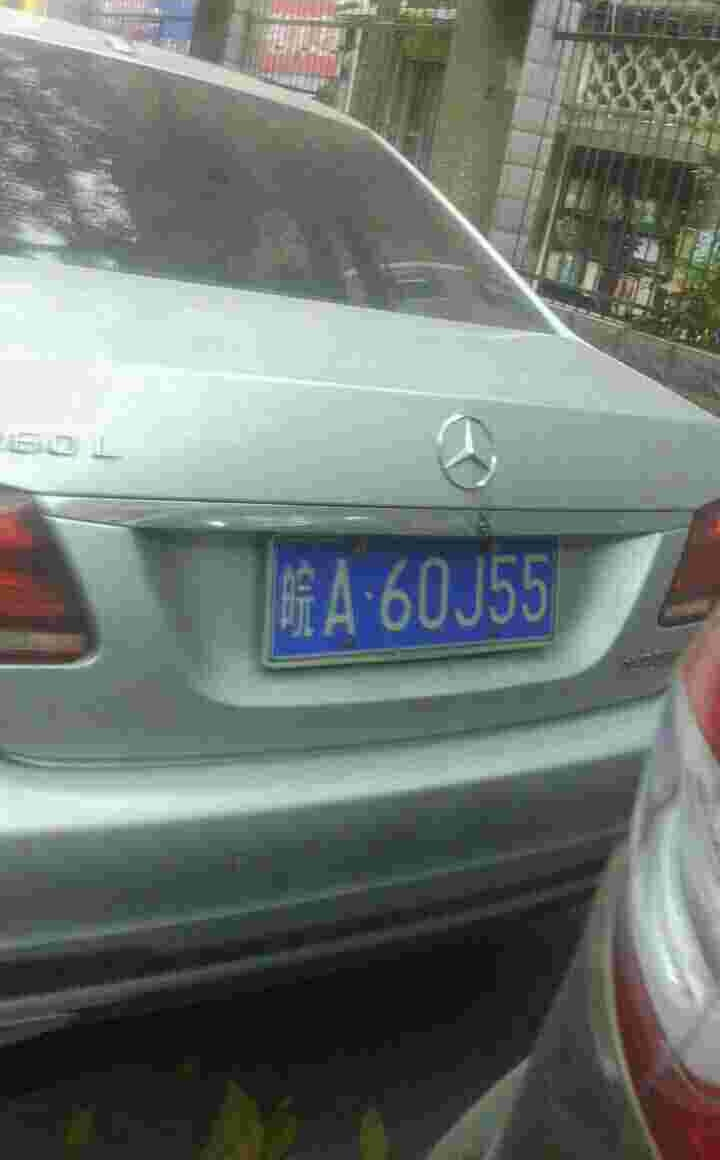license_plate: (266, 532, 570, 667)
